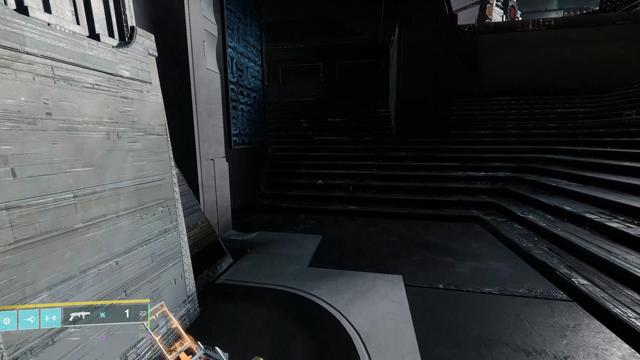stop: (509, 4, 516, 20)
